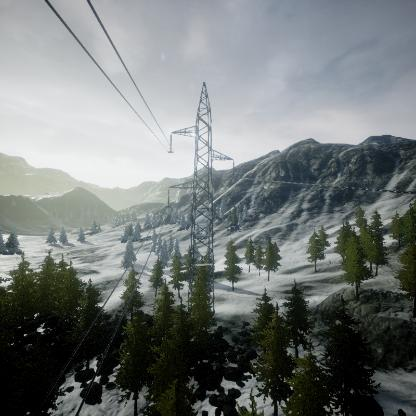tower: (166, 76, 241, 318)
